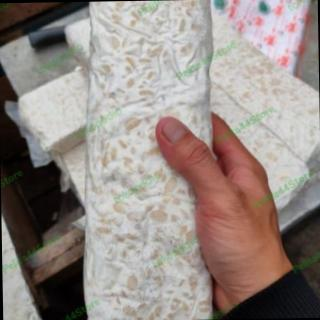Tempe: (73, 1, 220, 320)
